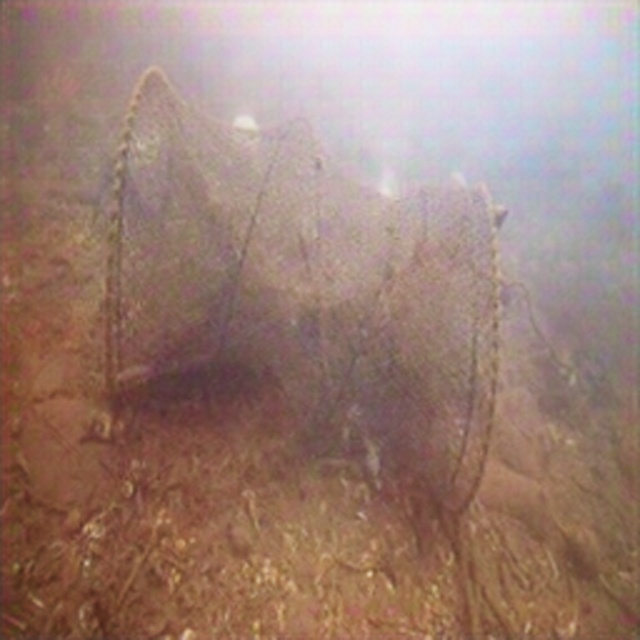mine: (105, 65, 502, 519)
